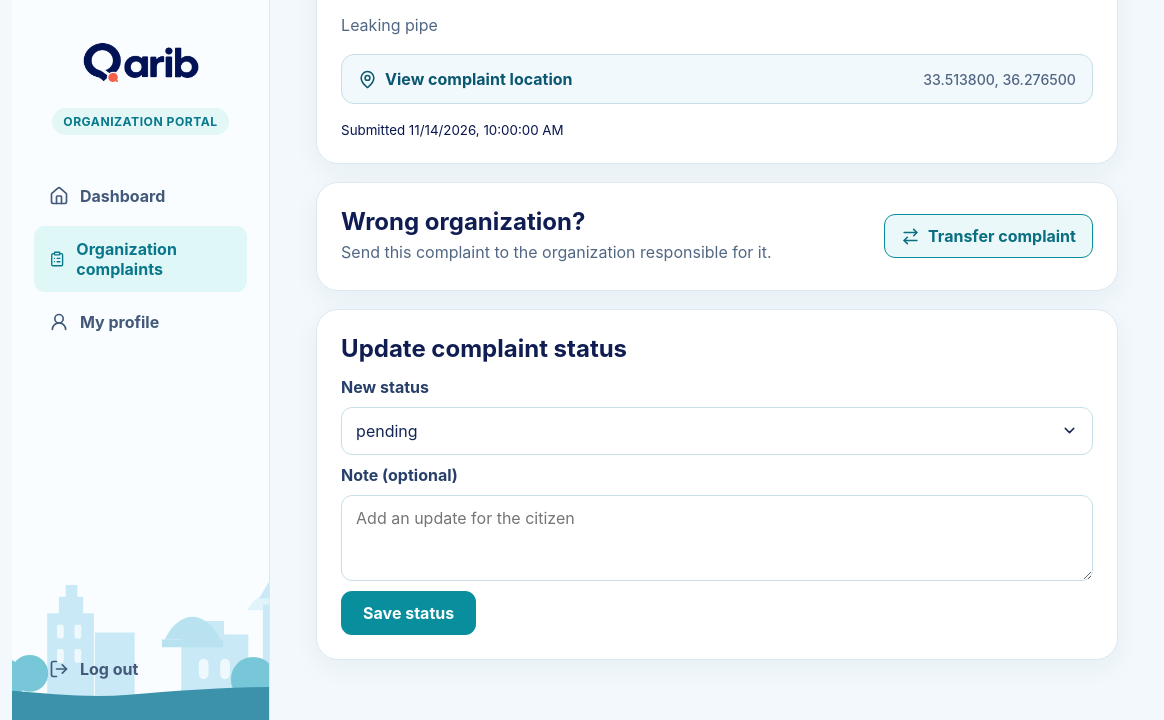
authentication pages › requires a rejection reason and updates the representative complaint status
(page scrolled)
expect the heading "Update complaint status" is shown: met, box [341, 334, 627, 363]
Click the dropdown named "New status". click: [387, 431]
box: [341, 407, 1093, 455]
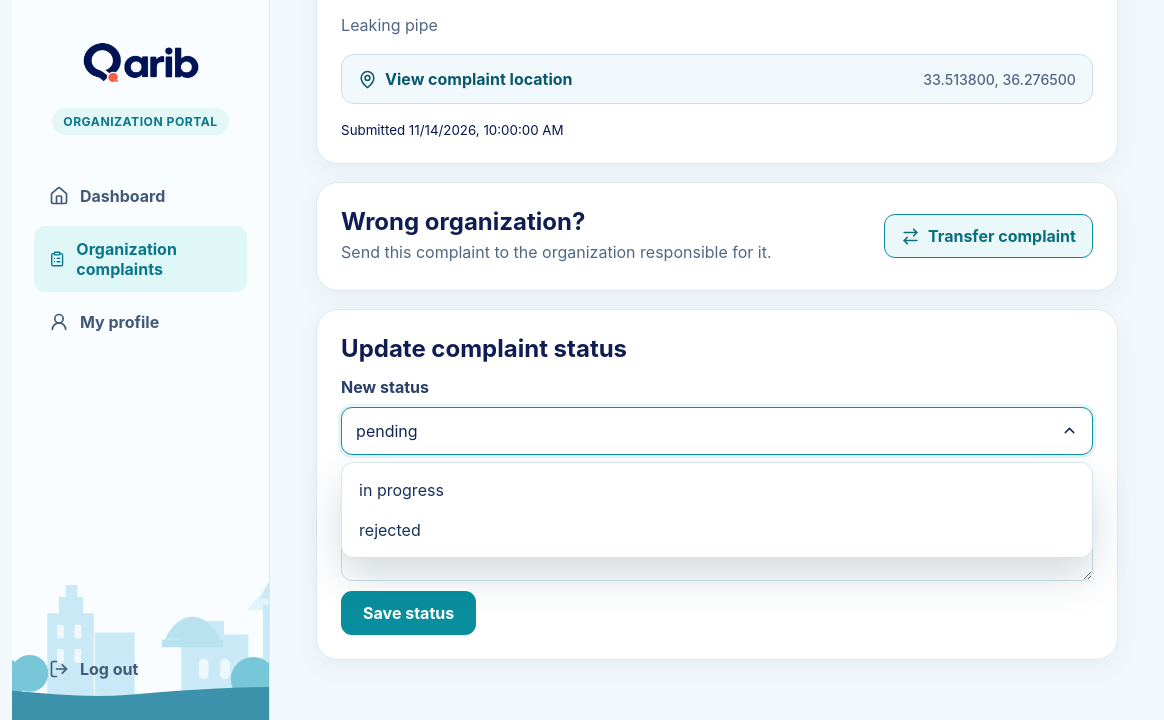
Click the option "rejected". click: [390, 530]
box: [349, 510, 1085, 550]
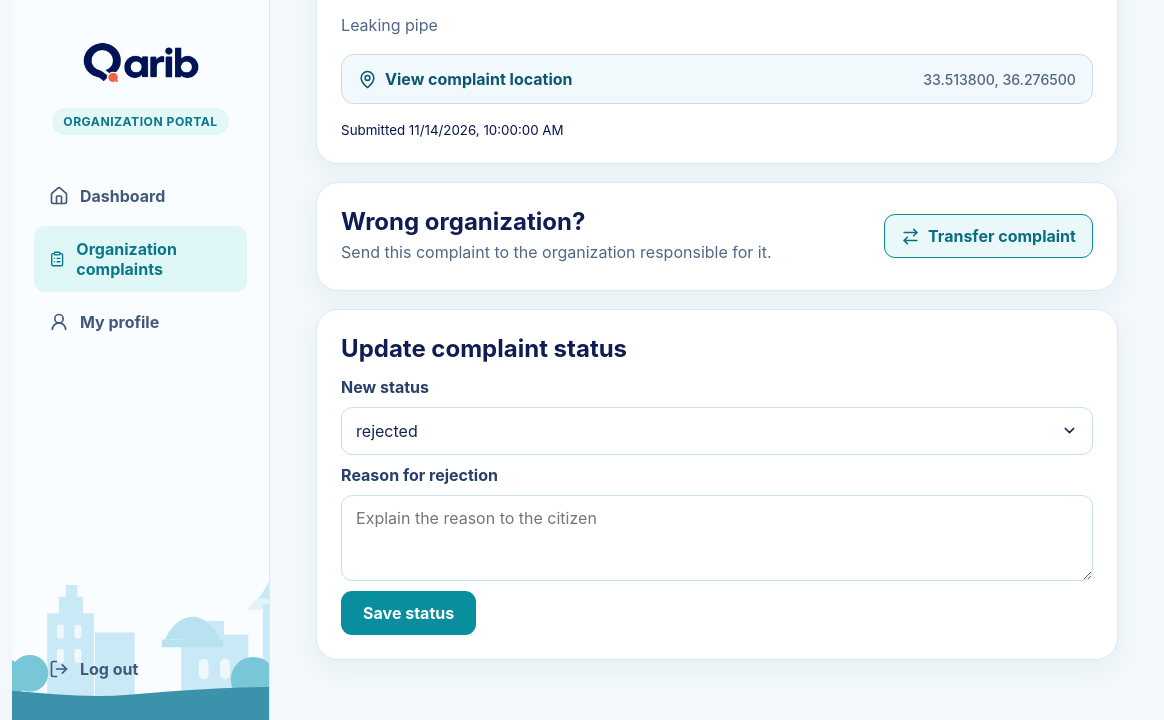
Type "Not our responsibility" into the text box labelled "Reason for rejection". click: [717, 538]
box: [341, 495, 1093, 581]
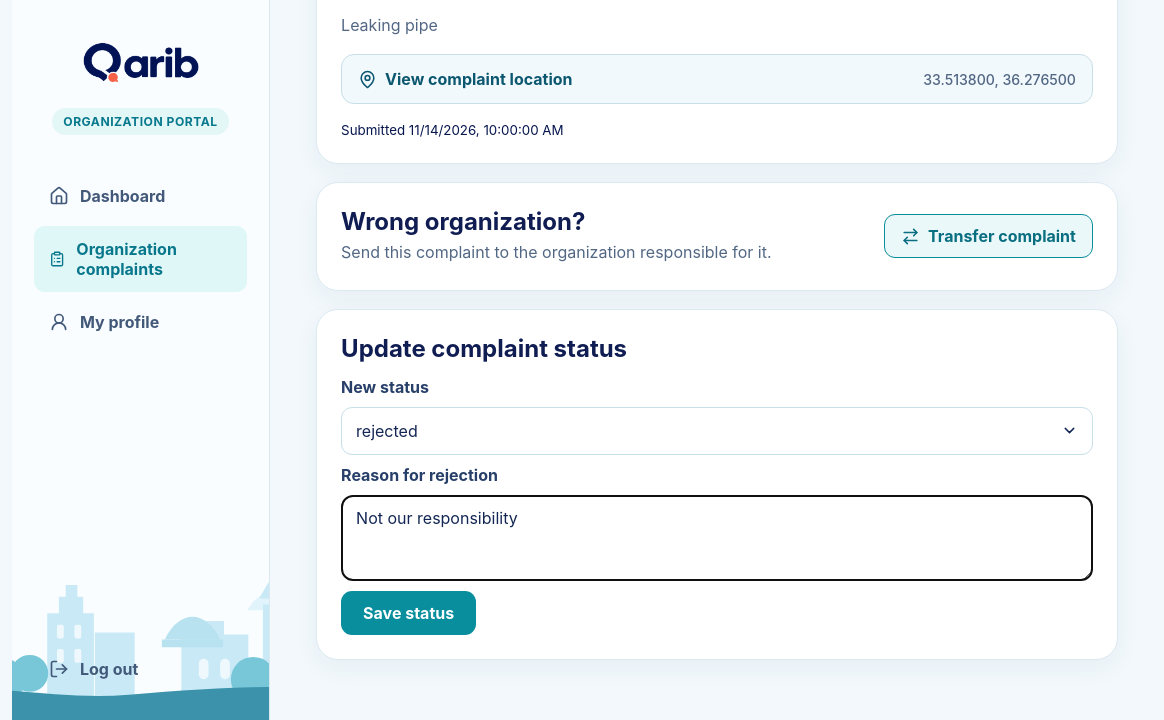
Click the button "Save status". click: [409, 613]
box: [341, 591, 476, 635]
(page scrolled)
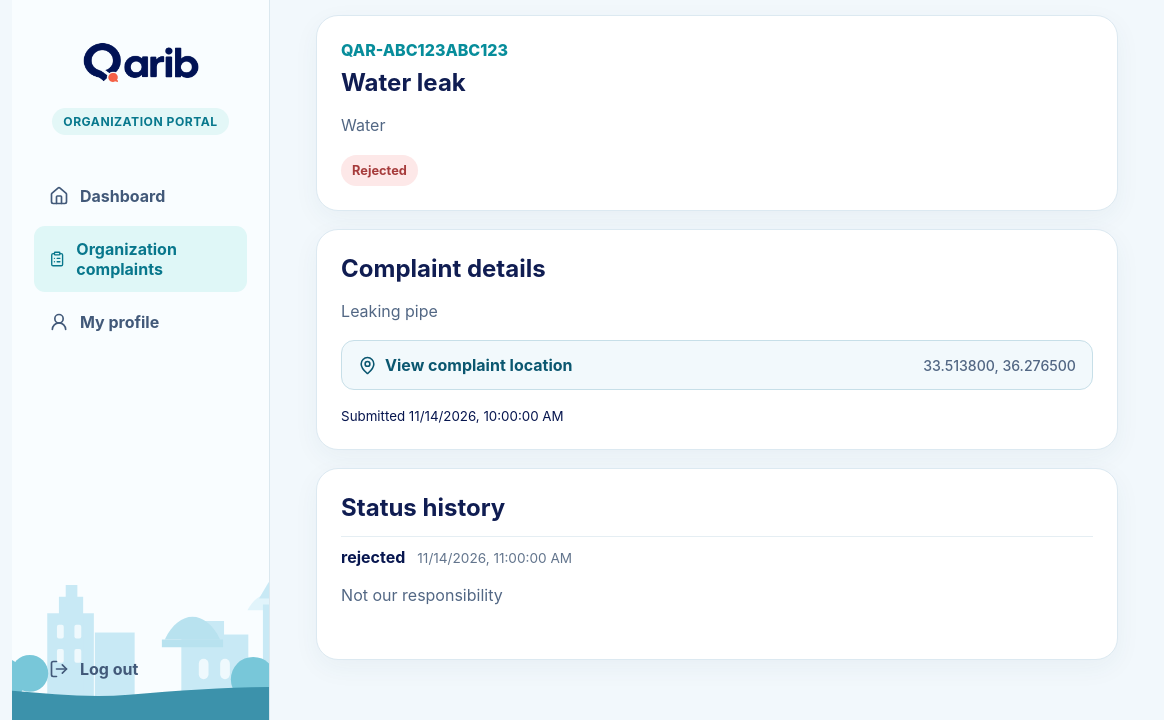
expect the text "Not our responsibility" is shown: met, box [341, 585, 503, 605]
expect the label "New status" is gone: met
